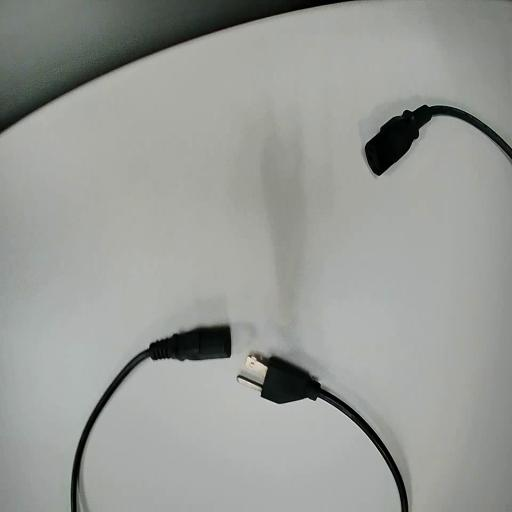wire: (72, 326, 230, 511), (260, 356, 407, 511), (365, 106, 511, 174)
